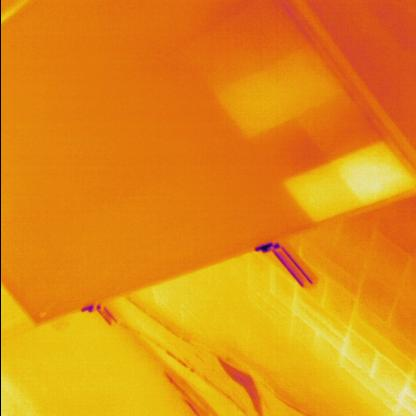hotspot: (282, 134, 410, 224)
